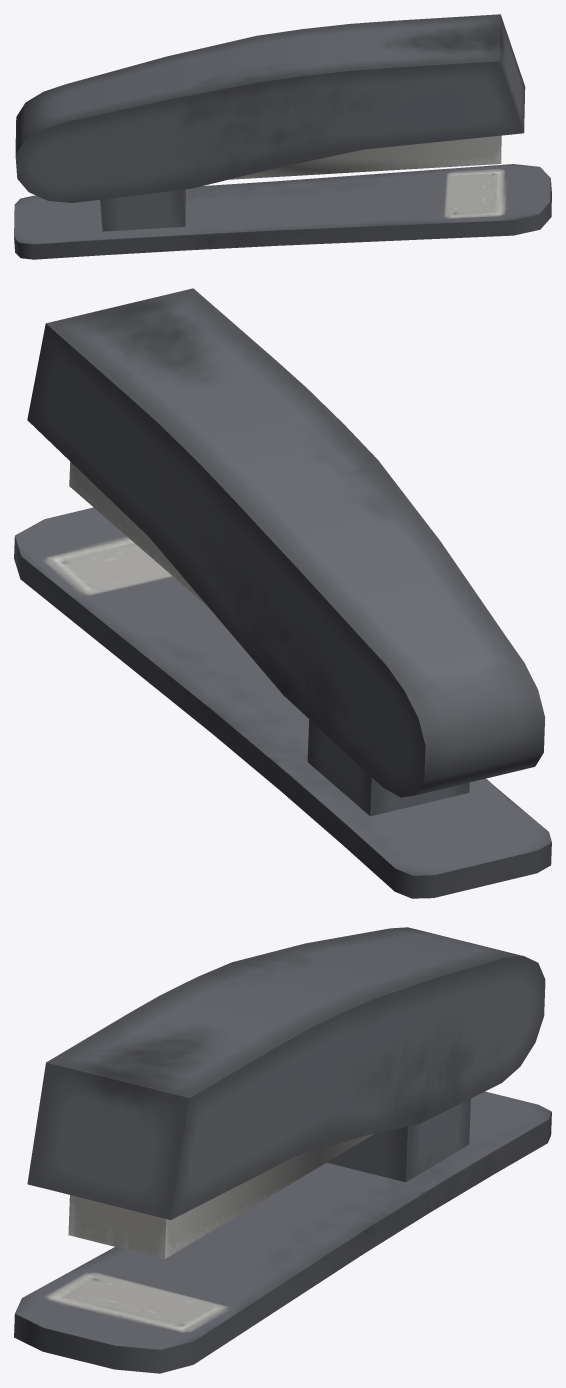
The model's file is Grapadora.glb.
3 views of the same model, one above another, from view 1: azimuth 30°, elevation 25°; view 2: azimuth 150°, elevation 25°; view 3: azimuth 270°, elevation 25° (orthographic). The views are drawn at different scales.
Parts seen in each view (by area): view 1: Repisa_Grapadora; view 2: Repisa_Grapadora; view 3: Repisa_Grapadora.
Boxes of the visible parts, x1=… form: Repisa_Grapadora: x1=14, y1=14, x2=551, y2=259; Repisa_Grapadora: x1=14, y1=288, x2=551, y2=898; Repisa_Grapadora: x1=14, y1=927, x2=551, y2=1373.
Size of the model in its own units: 0.1683 by 0.0738 by 0.1194.
1 material, 1 textured.
